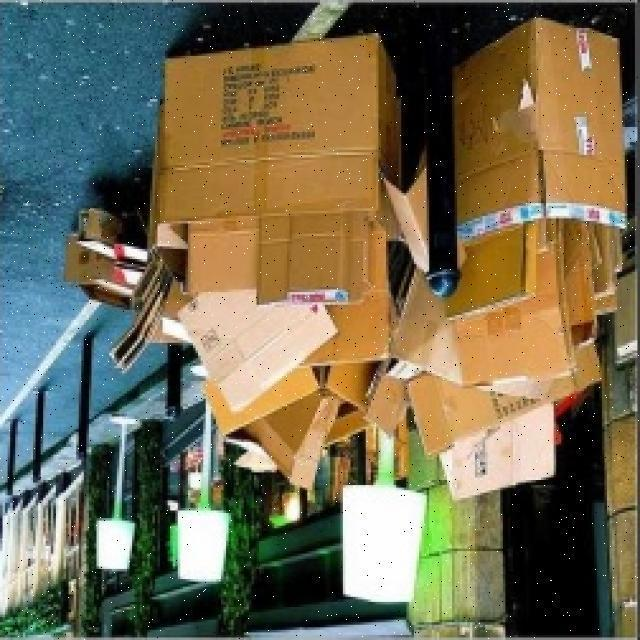box: (162, 25, 404, 302), (454, 24, 634, 357), (211, 343, 398, 469)
